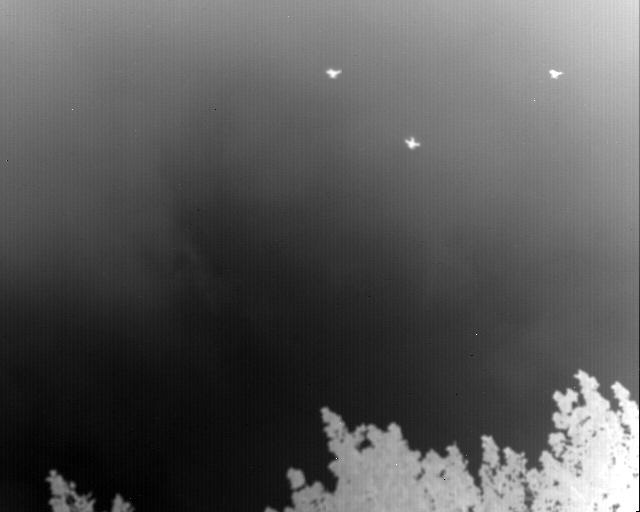plane: (405, 137, 420, 149), (326, 68, 342, 78), (549, 69, 563, 79)
